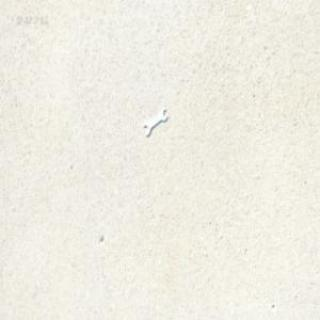Wrenchtrack_idkeyframe: (142, 107, 166, 136)
